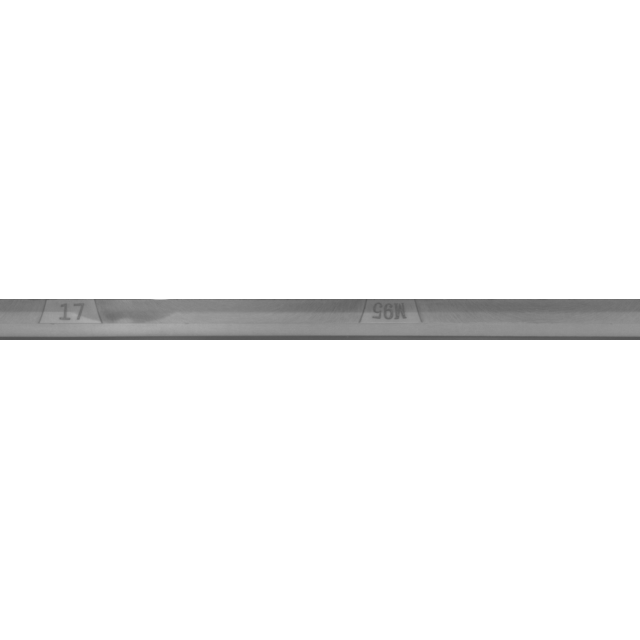mohao: (257, 270, 457, 370)
xuehao: (0, 270, 147, 370)
